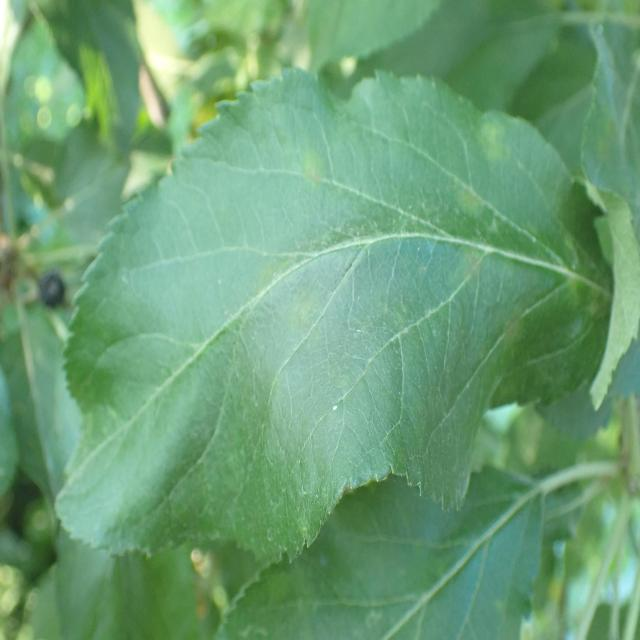scab: (160, 124, 614, 487)
